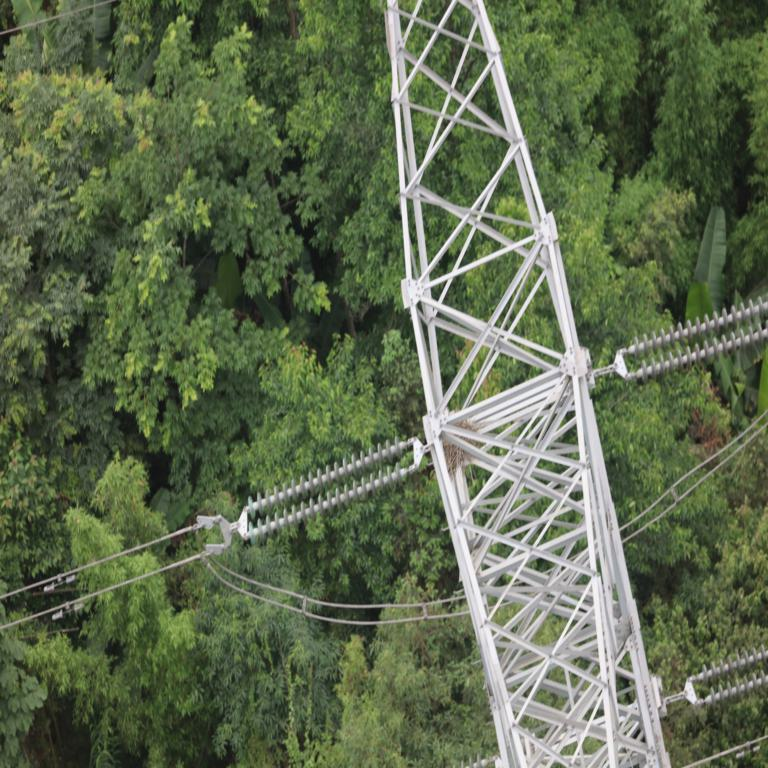nest: (438, 423, 474, 473)
